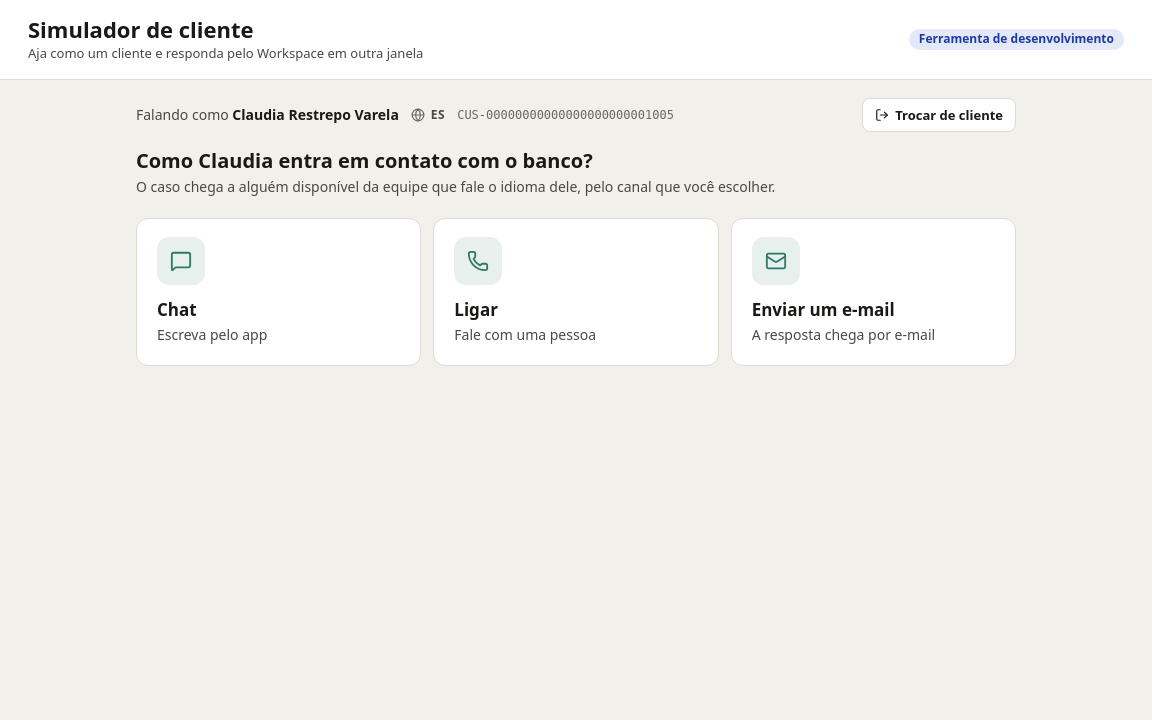
Scenario: /customer in Portuguese (slice 23) › keeps the chrome in Portuguese and the phone in the Spanish customer’s language
The width and height of the screenshot is (1152, 720).
Expected: the text "Falando como" is shown, [136,105,232,124]
Expected: the button "Trocar de cliente" is shown, [862,98,1016,132]
Click the button "Chat Escreva pelo app": [181, 261] box [136,218,421,366]
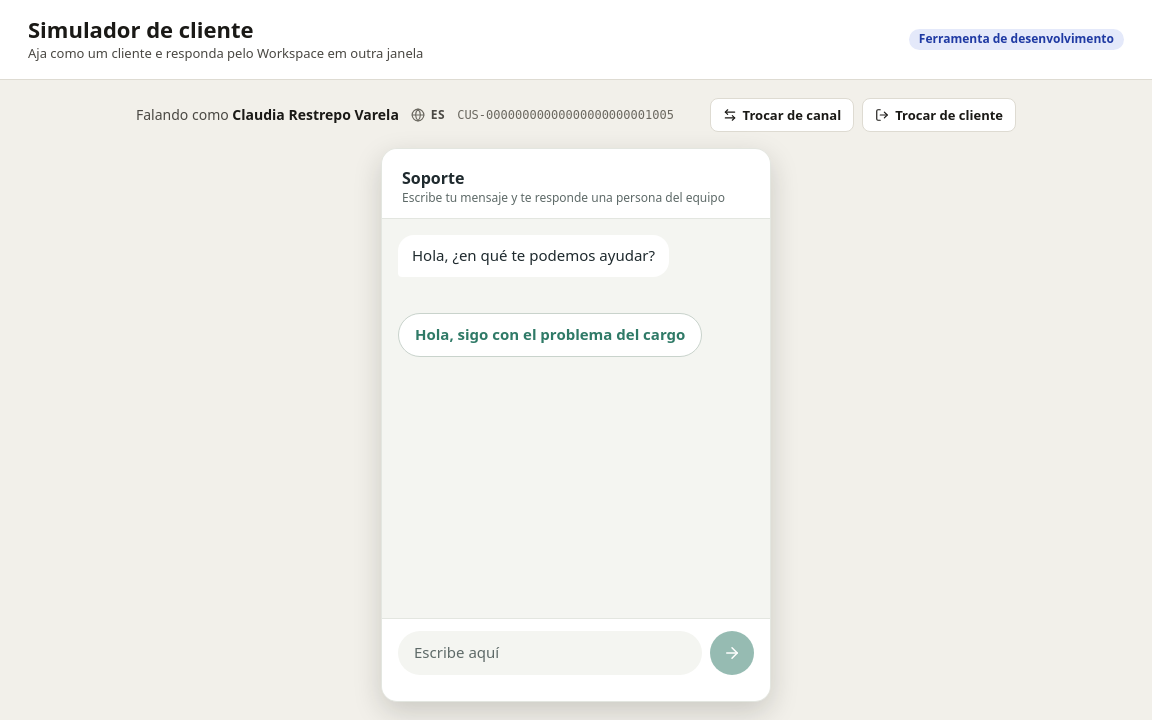
Expected: the text "Soporte" is shown, [402,167,464,189]
Expected: the list item "Hola, ¿en qué te podemos ayudar?" is shown, [398,235,669,277]
Expected: the field named "Escribe tu mensaje" is shown, [398,631,702,675]
